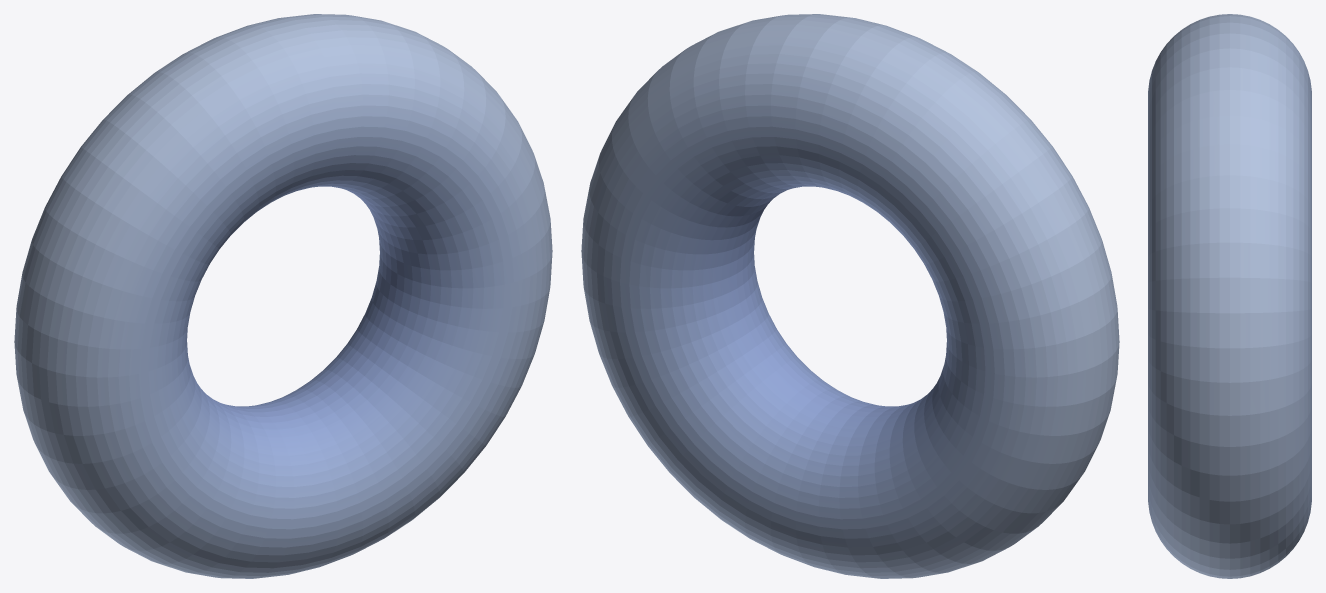
3 renders of one model, left to right at view 1: azimuth 30°, elevation 25°; view 2: azimuth 150°, elevation 25°; view 3: azimuth 270°, elevation 25°, orthographic. The views are drawn at different scales.
Parts seen in each view (by area): view 1: world; view 2: world; view 3: world.
Boxes of the visible parts, x1,y1,x2,y2 form: world: (14,14,552,578); world: (581,14,1119,578); world: (1148,14,1311,578).
Bounding box in the file's own units: 20.67 × 20.63 × 5.99.
